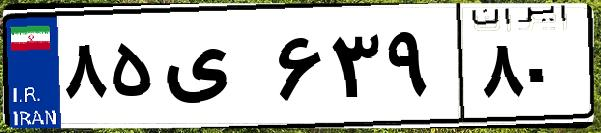0: (525, 38, 570, 115)
3: (330, 28, 385, 110)
5: (110, 28, 158, 98)
6: (270, 28, 330, 110)
8: (57, 26, 110, 100), (475, 38, 525, 113)
9: (385, 28, 445, 110)
ی: (158, 20, 270, 120)
